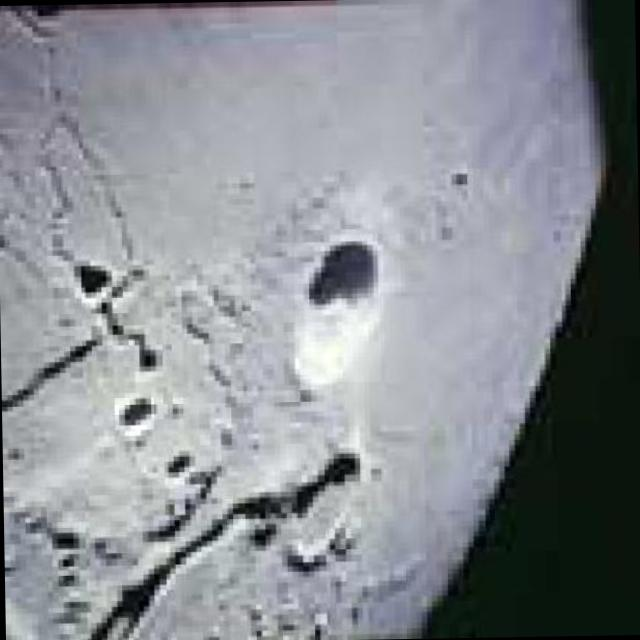crater: (294, 242, 381, 382), (115, 397, 154, 430)
